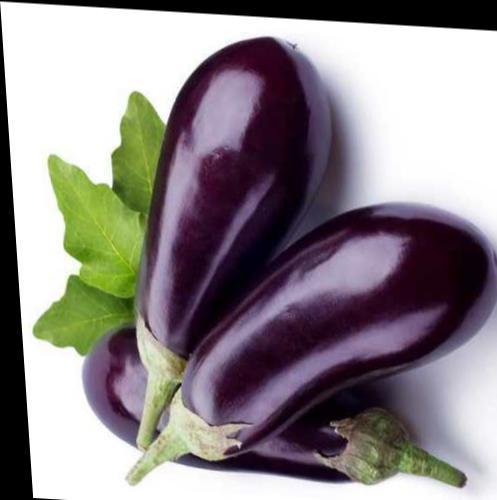eggplant: (44, 36, 490, 497)
